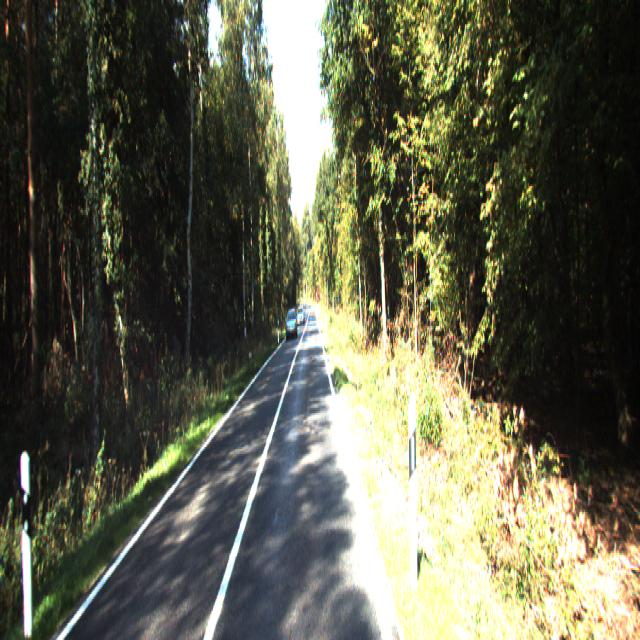Car: (286, 308, 298, 341)
